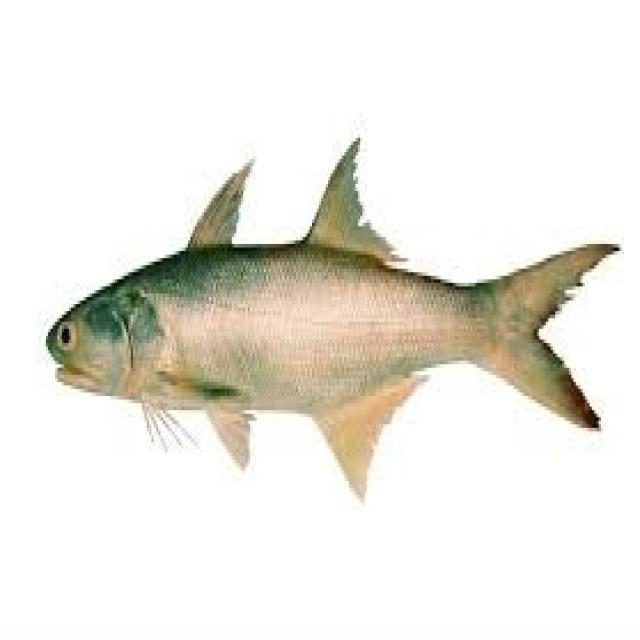Fourfinger-Threadfin: (19, 132, 636, 530)
